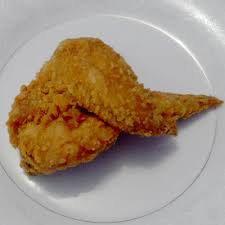Ayam goreng: (6, 38, 224, 177)
